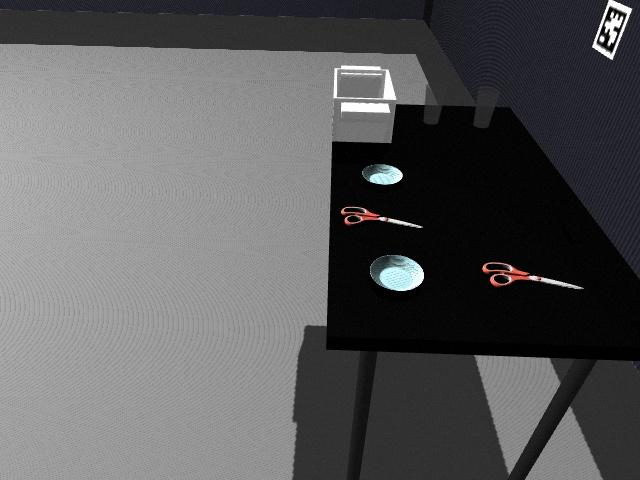cup: (472, 86, 499, 128), (423, 84, 442, 125)
plate: (368, 253, 427, 292), (360, 164, 405, 187)
scissors: (484, 260, 585, 290), (341, 205, 422, 230)
